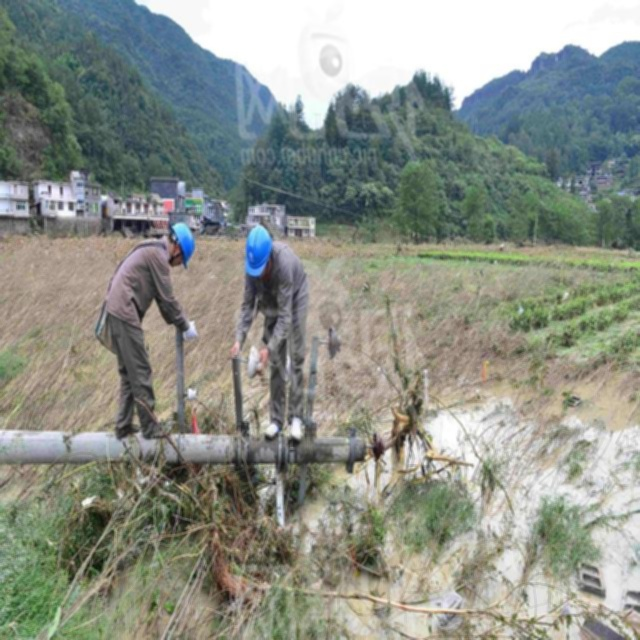Con_Casco: (245, 220, 274, 276), (165, 220, 195, 269)
